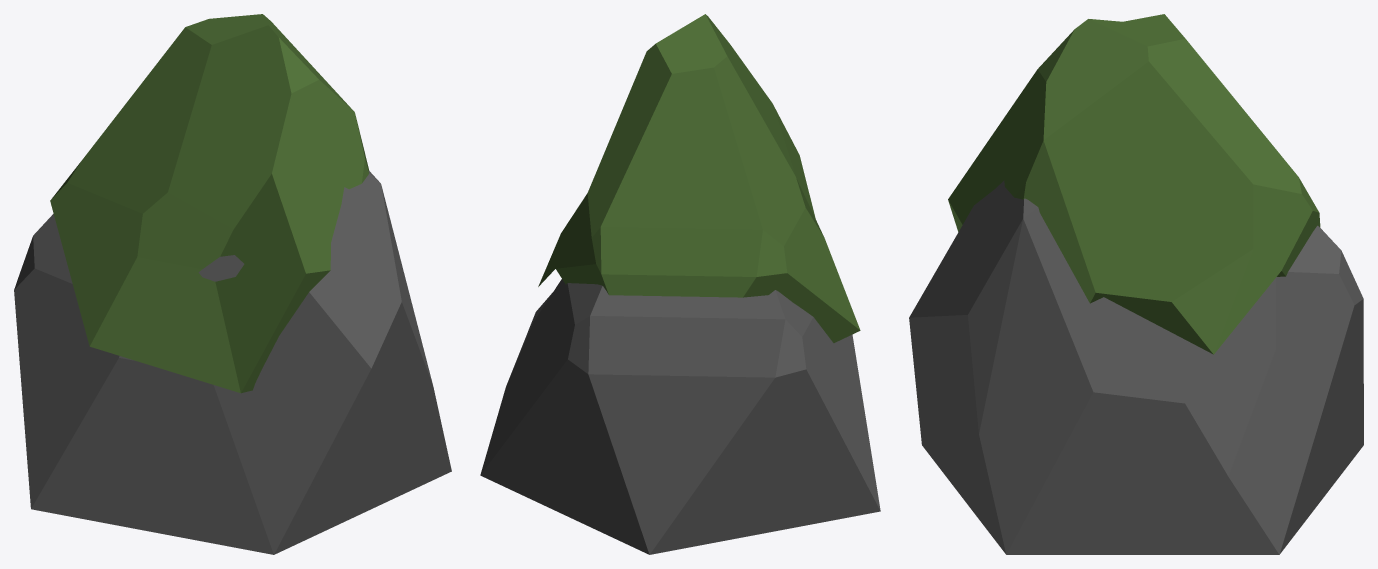
File: Rock_New_1_Mocha_2.fbx
3 renders of one model, left to right at view 1: azimuth 30°, elevation 25°; view 2: azimuth 150°, elevation 25°; view 3: azimuth 270°, elevation 25°, orthographic. The views are drawn at different scales.
Visible parts, largest first — view 1: Icosphere.002, Icosphere.003; view 2: Icosphere.002, Icosphere.003; view 3: Icosphere.002, Icosphere.003.
Boxes of the visible parts, x1,y1,x2,y2 form: Icosphere.002: (14, 171, 451, 554); Icosphere.003: (50, 14, 369, 393); Icosphere.002: (480, 279, 880, 554); Icosphere.003: (538, 14, 860, 342); Icosphere.002: (909, 180, 1363, 554); Icosphere.003: (948, 14, 1320, 354).
Size of the model in its own units: 317 by 414 by 343.
